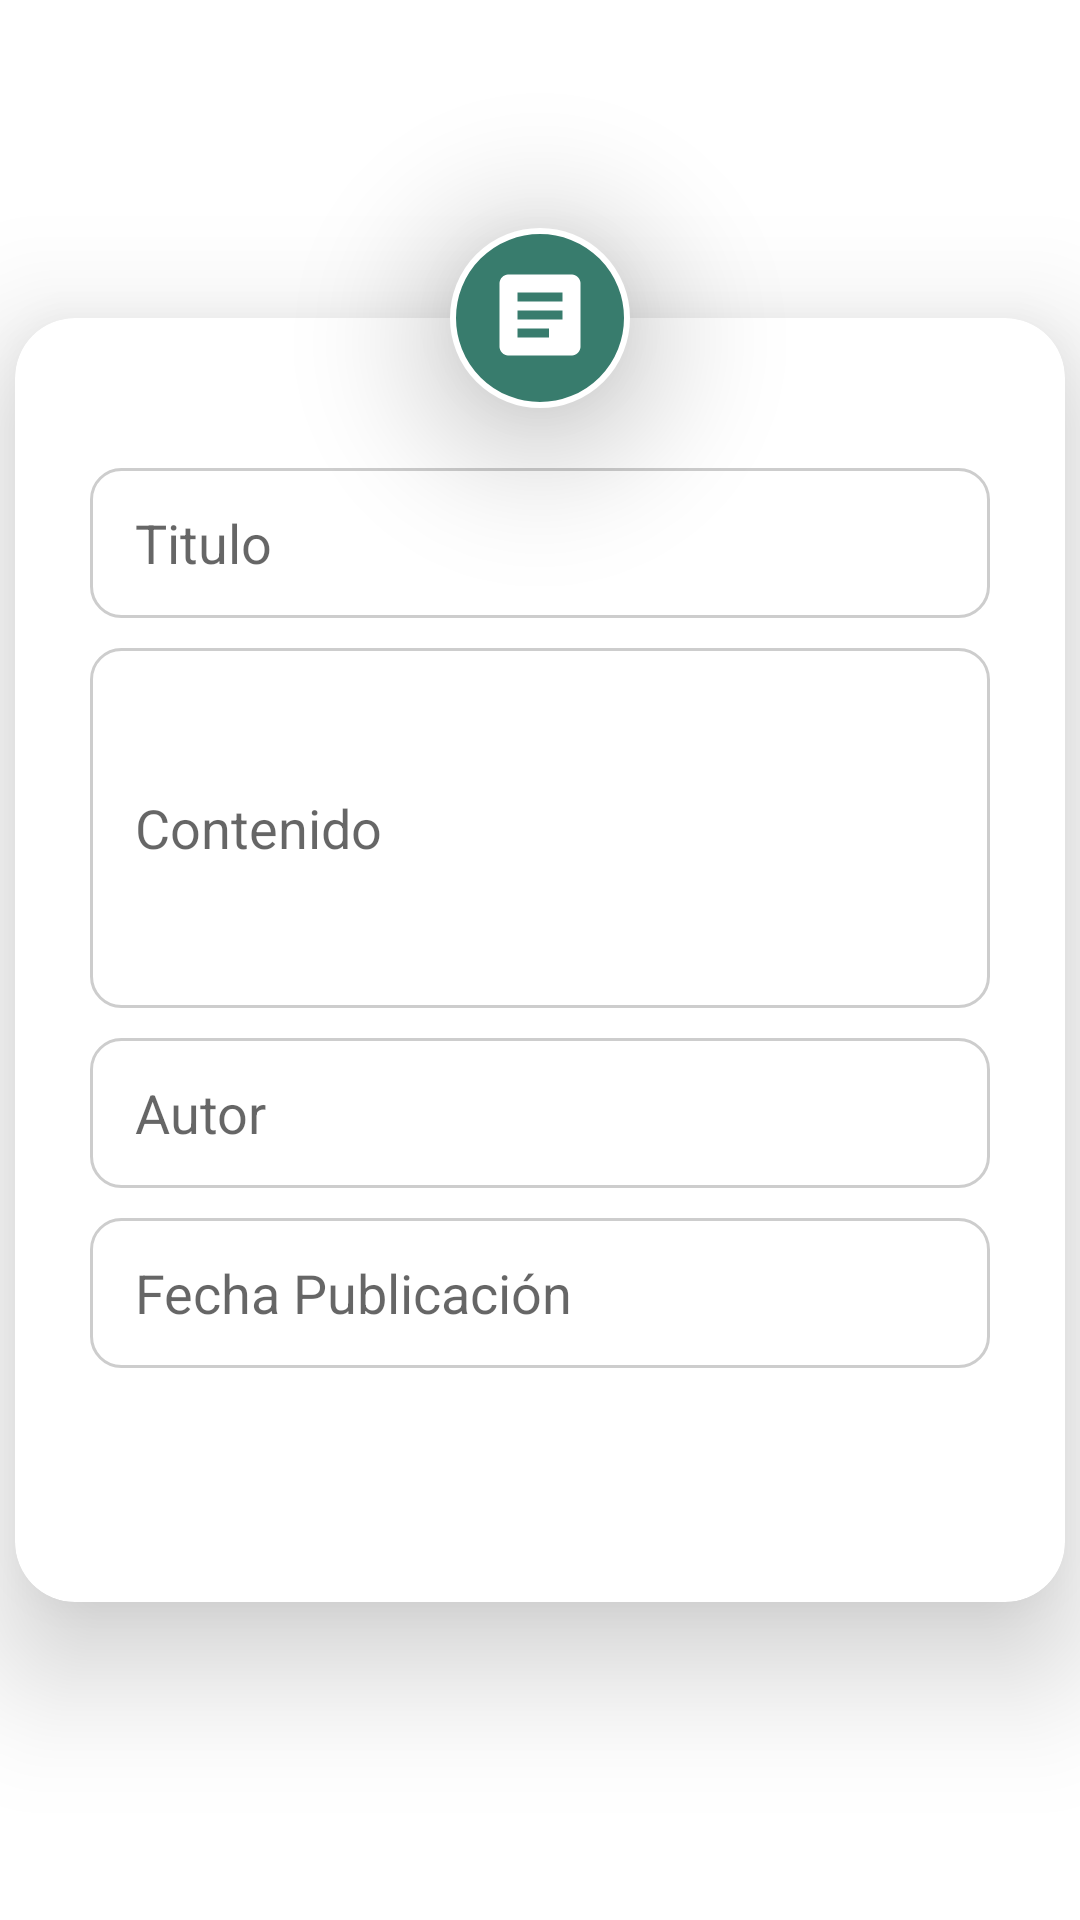

Locate icon controls on the screen. Image size 1080×1920, boxes as (x1, y1, x2, y2).
article: (450, 228, 630, 408)
